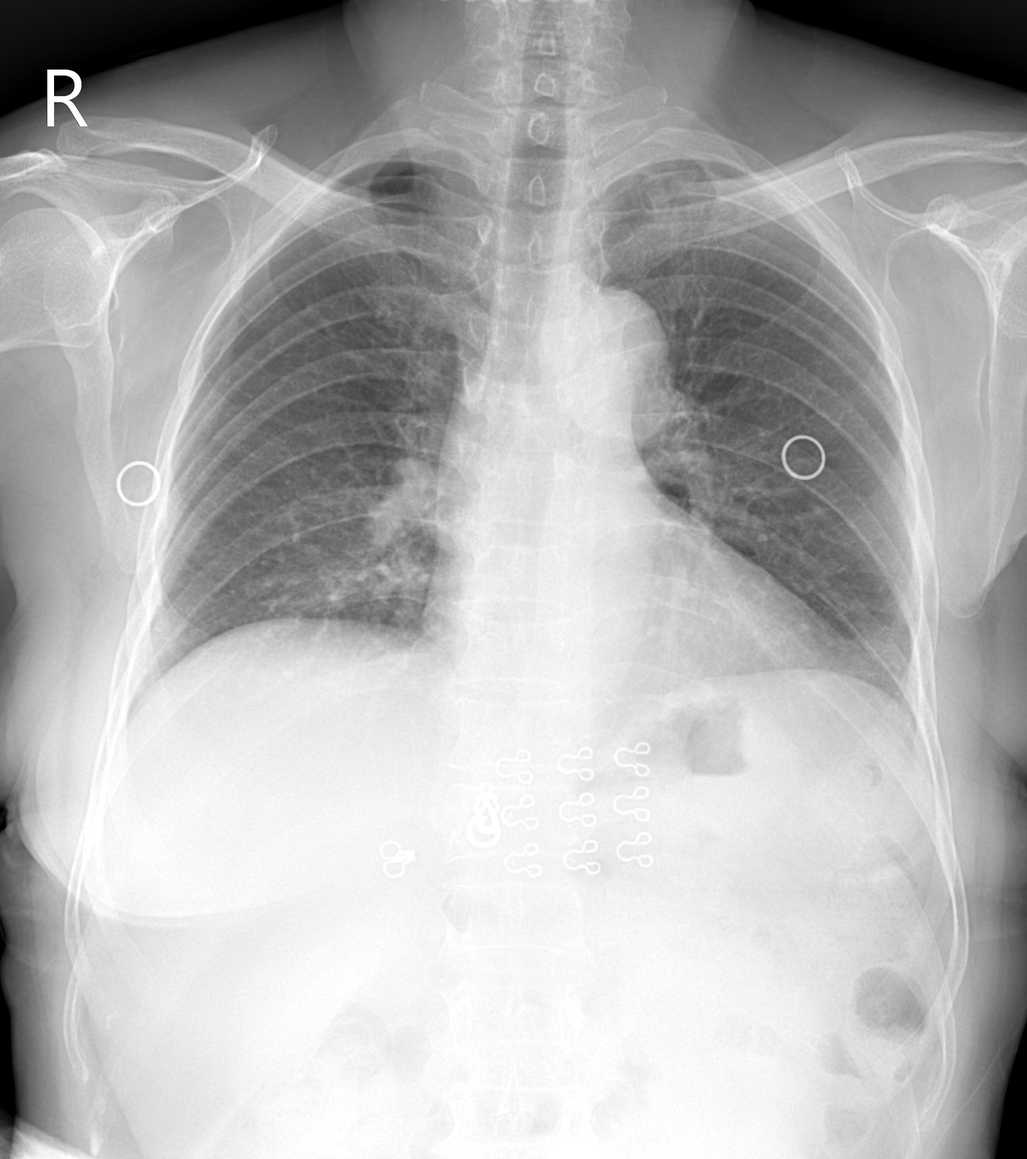Aortic enlargement: (562, 281, 666, 436)
Cardiomegaly: (419, 586, 834, 708)
